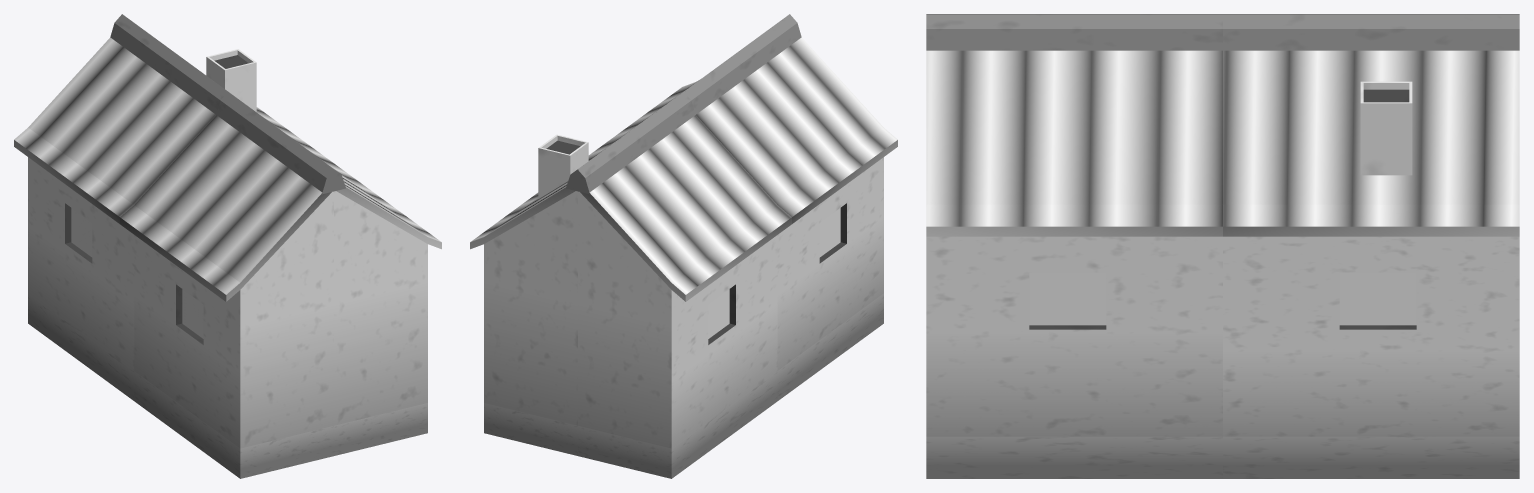
File: WesternHouseA.fbx
3 renders of one model, left to right at view 1: azimuth 30°, elevation 25°; view 2: azimuth 150°, elevation 25°; view 3: azimuth 270°, elevation 25°, orthographic. The views are drawn at different scales.
Parts seen in each view (by area): view 1: HouseA; view 2: HouseA; view 3: HouseA.
Boxes of the visible parts, x1,y1,x2,y2 form: HouseA: (14, 14, 441, 478); HouseA: (470, 14, 897, 478); HouseA: (926, 14, 1519, 478).
Size of the model in its own units: 744 by 945 by 1268.
